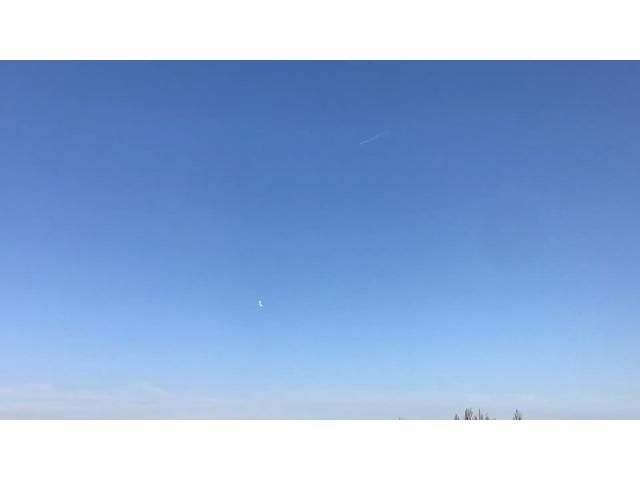Anti-Drone: (246, 295, 276, 317)
